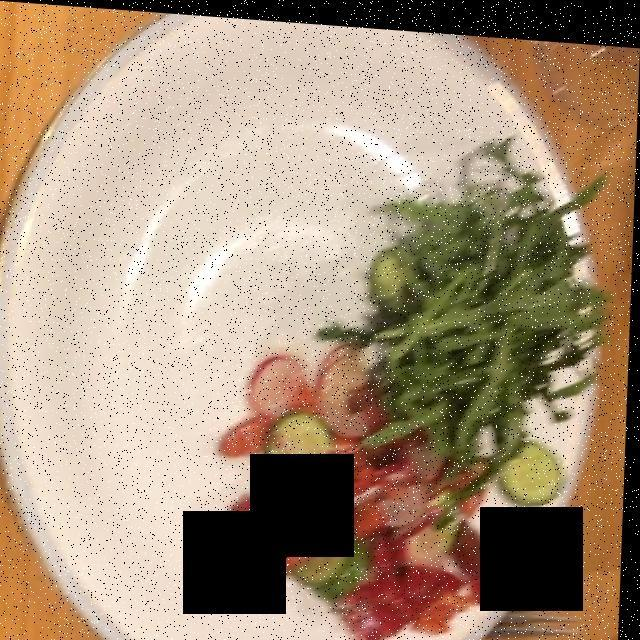bell-pepper: (349, 462, 504, 624)
cucumber: (266, 403, 570, 586)
radish: (255, 344, 449, 541)
salad: (325, 138, 583, 488)
